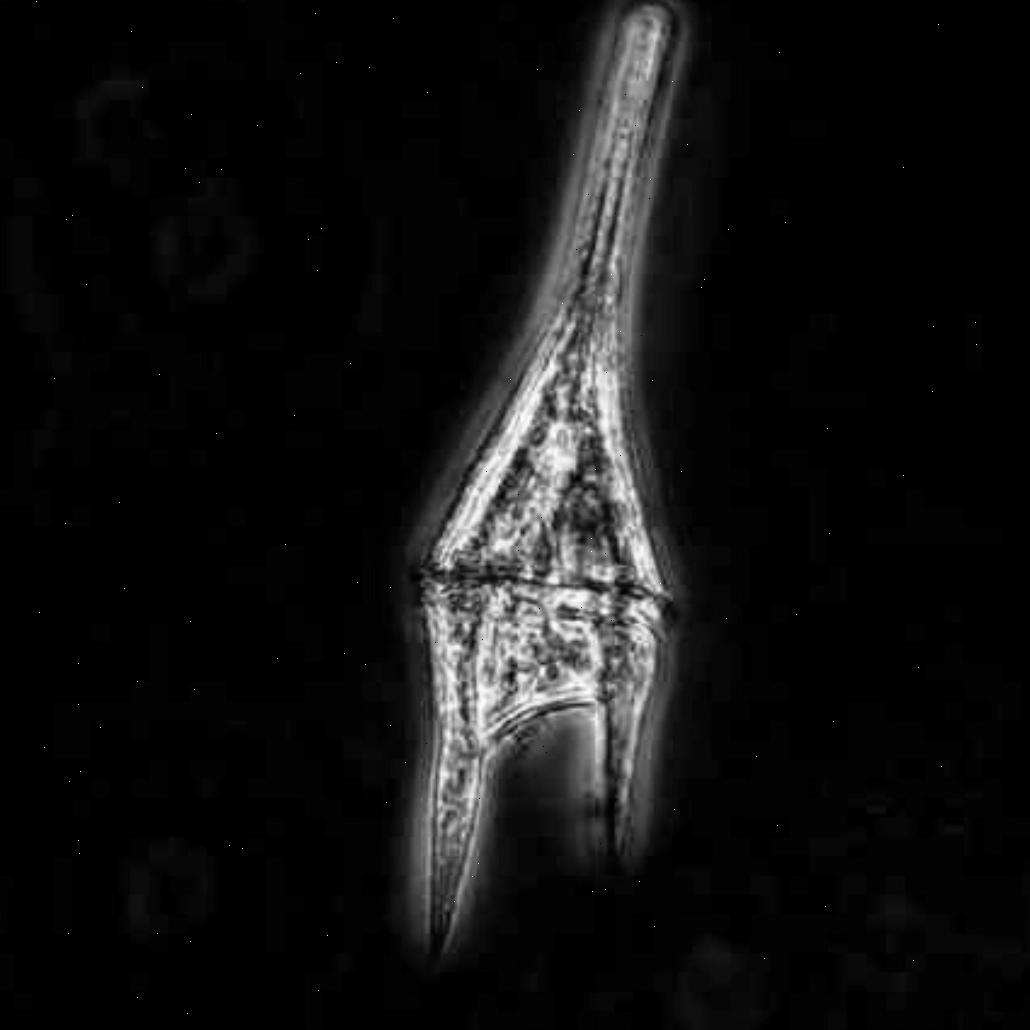ceratium_furca: (421, 0, 679, 976)
